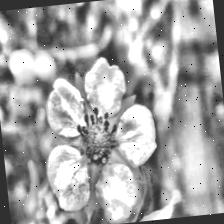Blossom Blight: (73, 103, 126, 176)
